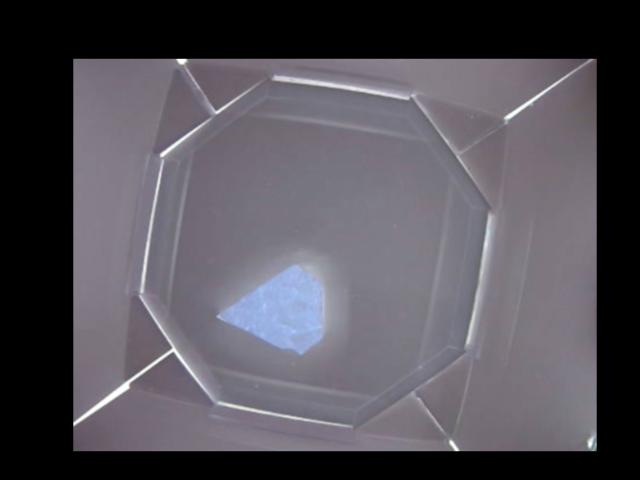China: (213, 263, 325, 358)
